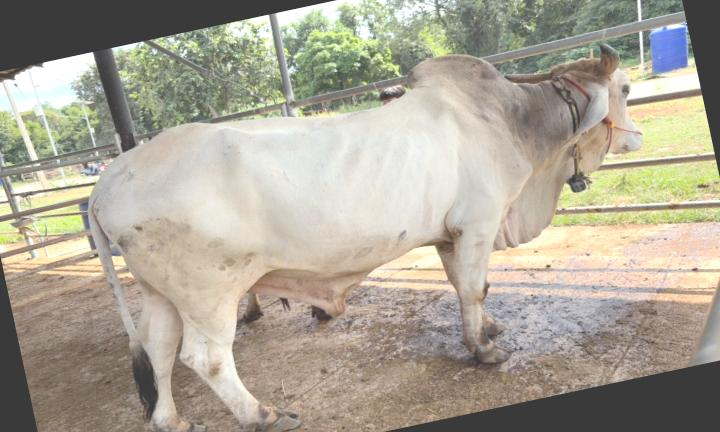Brahman: (89, 45, 642, 432)
